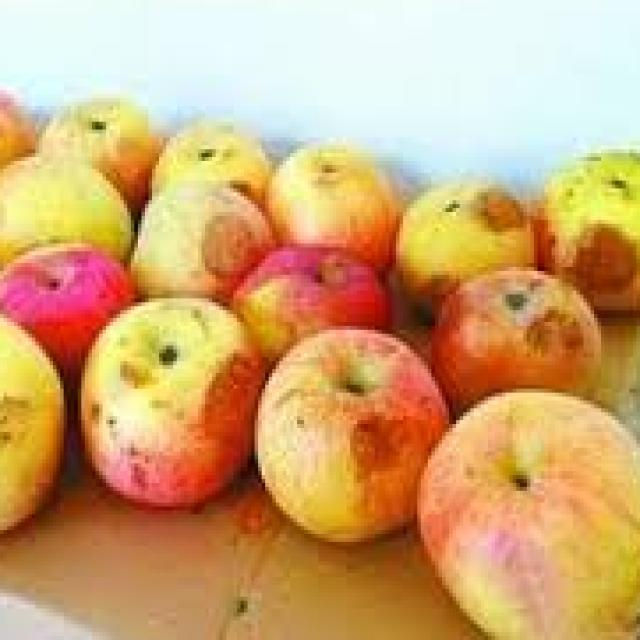inorganic: (3, 68, 635, 634)
